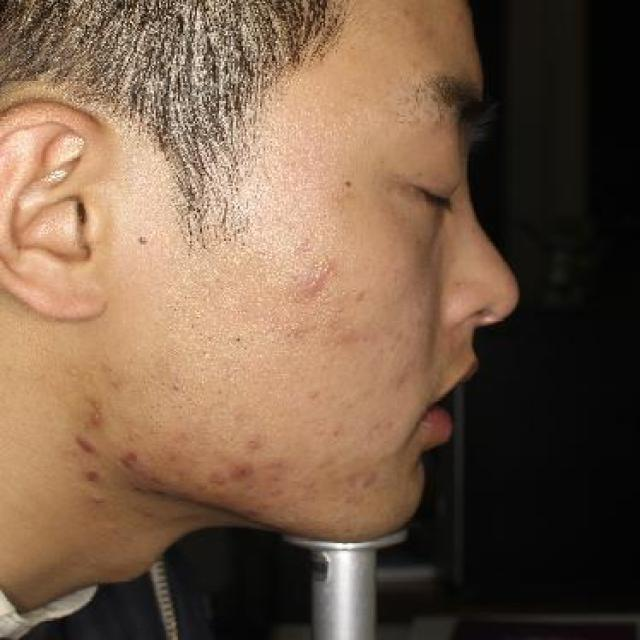Acne: (287, 252, 335, 302), (67, 428, 105, 458), (75, 461, 111, 491), (240, 429, 273, 456), (204, 464, 236, 488), (358, 464, 382, 493), (348, 282, 373, 306), (84, 488, 114, 508), (341, 461, 363, 486), (230, 461, 253, 483), (120, 446, 146, 463), (115, 458, 140, 472)
Blackheads: (337, 171, 363, 196), (132, 230, 154, 249)
